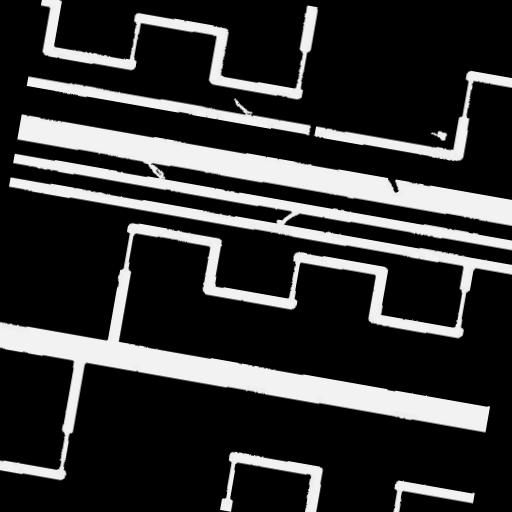mousebite: (222, 88, 262, 126)
open: (131, 152, 176, 188), (266, 198, 308, 235)
pin-hole: (420, 120, 456, 149)
short: (298, 112, 324, 150)
spur: (376, 166, 409, 200)
